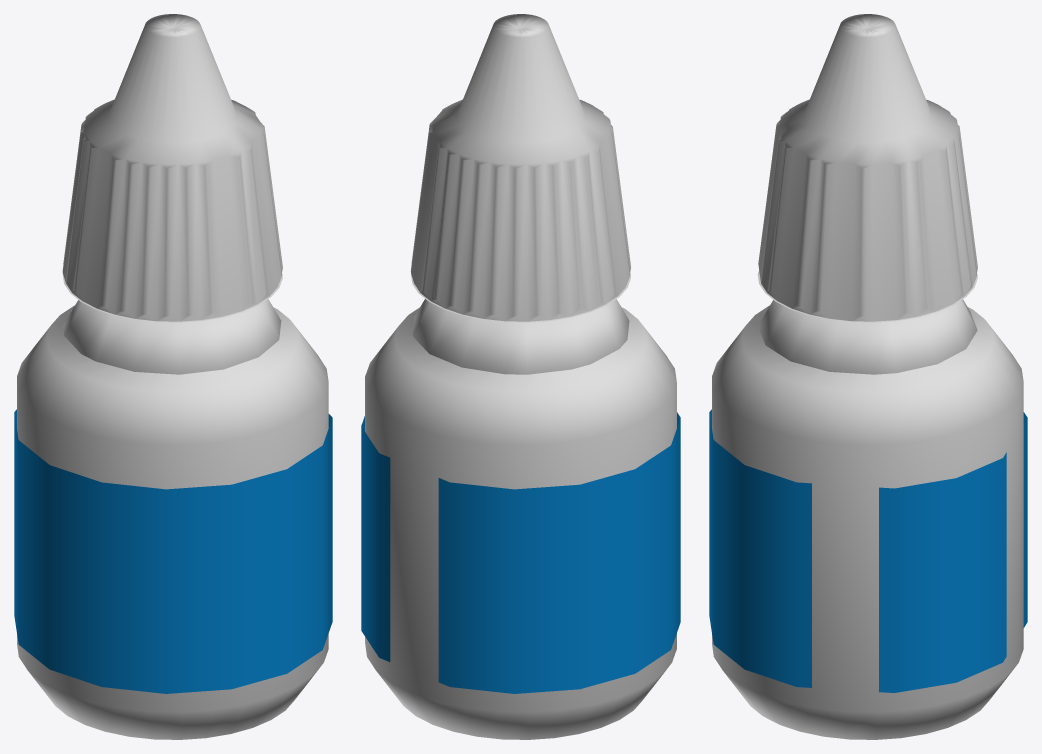
File: sulphuric_acid.fbx
3 renders of one model, left to right at view 1: azimuth 30°, elevation 25°; view 2: azimuth 150°, elevation 25°; view 3: azimuth 270°, elevation 25°, orthographic.
Visible parts, largest first — view 1: sulphuric_acid; view 2: sulphuric_acid; view 3: sulphuric_acid.
Boxes of the visible parts, x1,y1,x2,y2 form: sulphuric_acid: (14,14,332,739); sulphuric_acid: (361,14,680,739); sulphuric_acid: (709,14,1027,739).
Size of the model in its own units: 7.76 by 17.97 by 7.82.
